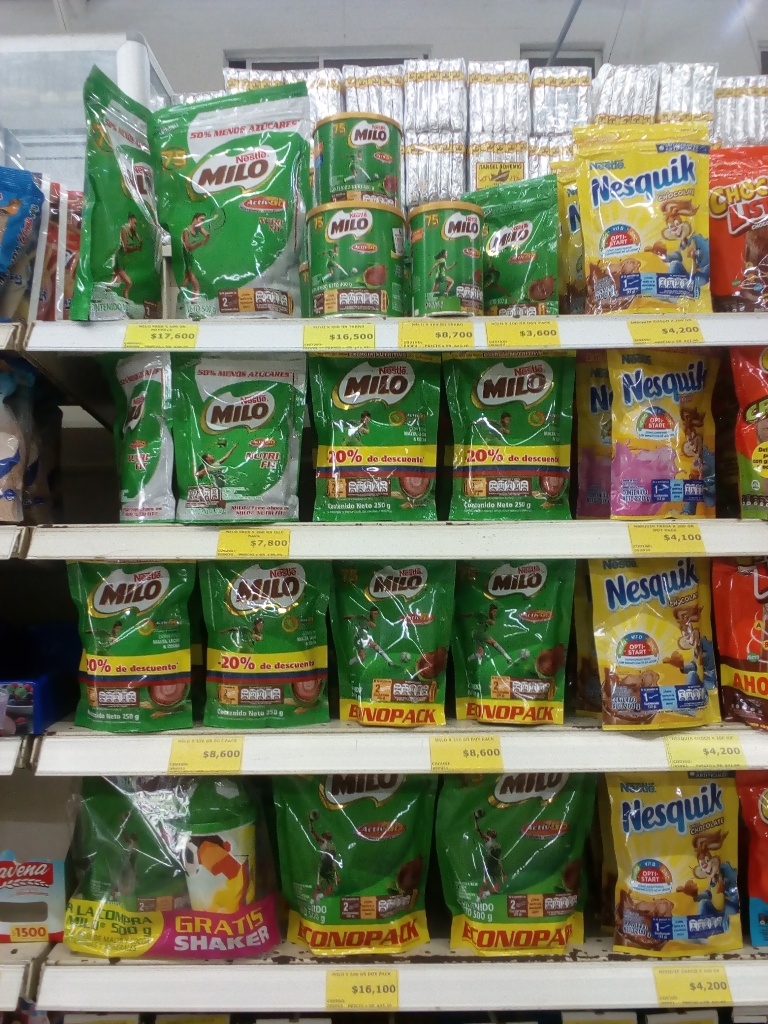COL0170102DYP25000: (726, 341, 767, 526)
COL0170103DYP20000: (701, 144, 768, 313)
COL0170103DYP36000: (713, 554, 768, 731)
COL0170203DYP10000: (456, 175, 567, 317)
COL0170203DYP25000: (303, 353, 446, 517)
COL0170203DYP50000: (274, 778, 450, 964)
COL0170203LAT20000: (416, 197, 485, 319)
COL0170203LAT40000: (314, 114, 403, 209)
COL0170205DYP20000: (106, 347, 182, 523)
COL0170205DYP50000: (65, 66, 166, 323)
COL0170303DYP20000: (581, 552, 727, 734)
